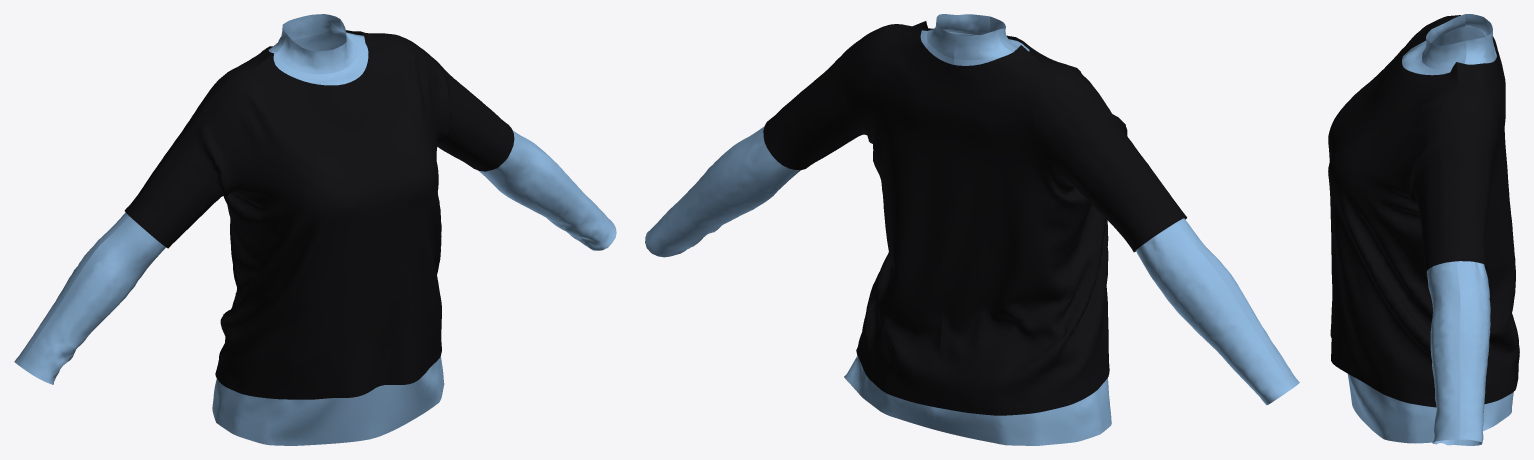
Rendered from layered_tops_both_everywear.obj.
3 renders of one model, left to right at view 1: azimuth 30°, elevation 25°; view 2: azimuth 150°, elevation 25°; view 3: azimuth 270°, elevation 25°, orthographic. The views are drawn at different scales.
Parts seen in each view (by area): view 1: l1_right_ftorso, l1_left_ftorso, l1_right_sleeve_f, l0_right_sleeve_f, l0_right_ftorso, l0_left_sleeve_f, l1_left_sleeve_f, l0_left_ftorso, l1_right_sleeve_b, l1_right_btorso, l0_right_collar_front, l0_right_sleeve_b (+3 smaller); view 2: l1_right_btorso, l1_left_btorso, l1_right_sleeve_b, l0_right_sleeve_b, l1_left_sleeve_b, l0_left_sleeve_b, l1_right_ftorso, l0_right_btorso, l0_left_btorso, l0_right_sleeve_f, l0_right_ftorso, l0_right_collar_back (+3 smaller); view 3: l1_left_ftorso, l1_left_btorso, l1_left_sleeve_b, l1_left_sleeve_f, l0_left_sleeve_b, l0_left_sleeve_f, l0_left_ftorso, l1_right_ftorso, l0_left_collar_front, l0_left_btorso, l0_left_collar_back, l0_right_collar_front (+4 smaller).
Part boxes in pixels (x1,y1,x2,y2): l1_right_ftorso: (219, 53, 379, 399); l1_left_ftorso: (344, 32, 441, 387); l1_right_sleeve_f: (130, 84, 255, 248); l0_right_sleeve_f: (19, 216, 165, 384); l0_right_ftorso: (213, 53, 373, 445); l0_left_sleeve_f: (478, 130, 616, 250); l1_left_sleeve_f: (402, 46, 514, 171); l0_left_ftorso: (334, 34, 444, 439); l1_right_sleeve_b: (124, 68, 250, 216); l1_right_btorso: (215, 46, 273, 380); l0_right_collar_front: (277, 33, 334, 74); l0_right_sleeve_b: (14, 212, 129, 365); l1_right_btorso: (936, 45, 1083, 415); l1_left_btorso: (856, 21, 951, 407); l1_right_sleeve_b: (1033, 64, 1181, 252); l0_right_sleeve_b: (1135, 222, 1293, 405); l1_left_sleeve_b: (763, 24, 900, 170); l0_left_sleeve_b: (645, 126, 800, 257); l1_right_ftorso: (1006, 35, 1109, 398); l0_right_btorso: (930, 50, 1077, 445); l0_left_btorso: (844, 30, 954, 429); l0_right_sleeve_f: (1177, 218, 1299, 387); l0_right_ftorso: (1008, 39, 1111, 441); l0_right_collar_back: (954, 29, 1009, 60); l1_left_ftorso: (1328, 62, 1458, 407); l1_left_btorso: (1456, 55, 1519, 404); l1_left_sleeve_b: (1438, 87, 1497, 270); l1_left_sleeve_f: (1405, 95, 1452, 277); l0_left_sleeve_b: (1454, 261, 1490, 445); l0_left_sleeve_f: (1427, 261, 1460, 445); l0_left_ftorso: (1347, 58, 1464, 443); l1_right_ftorso: (1328, 18, 1453, 337); l0_left_collar_front: (1422, 37, 1466, 68); l0_left_btorso: (1464, 51, 1513, 430); l0_left_collar_back: (1465, 29, 1494, 62); l0_right_collar_front: (1422, 14, 1465, 57).
Bounding box in the file's own units: 829 × 499 × 231.
